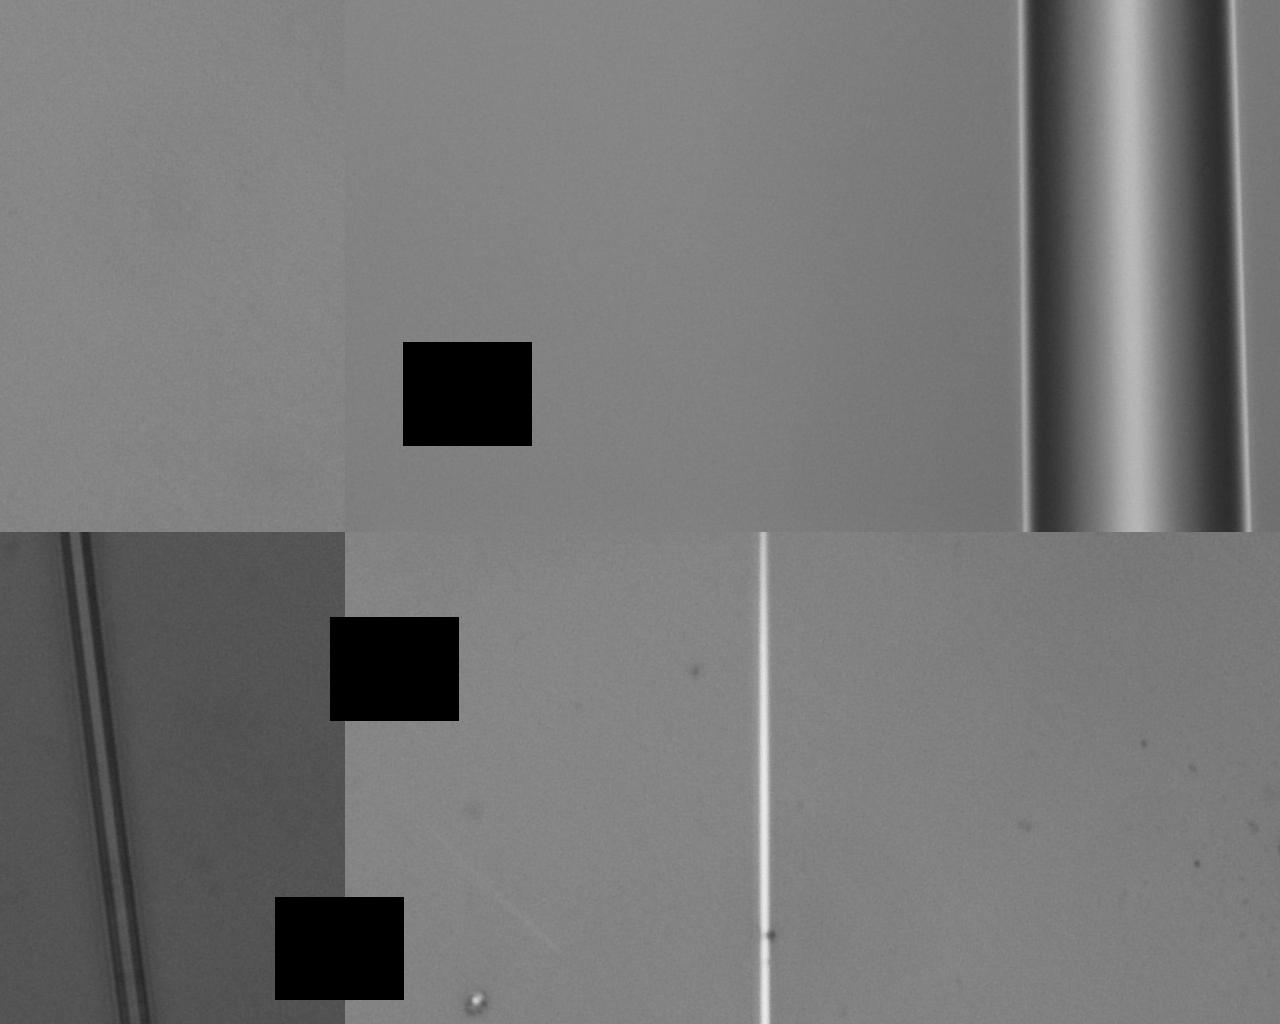fiber: (0, 436, 1280, 1008)
